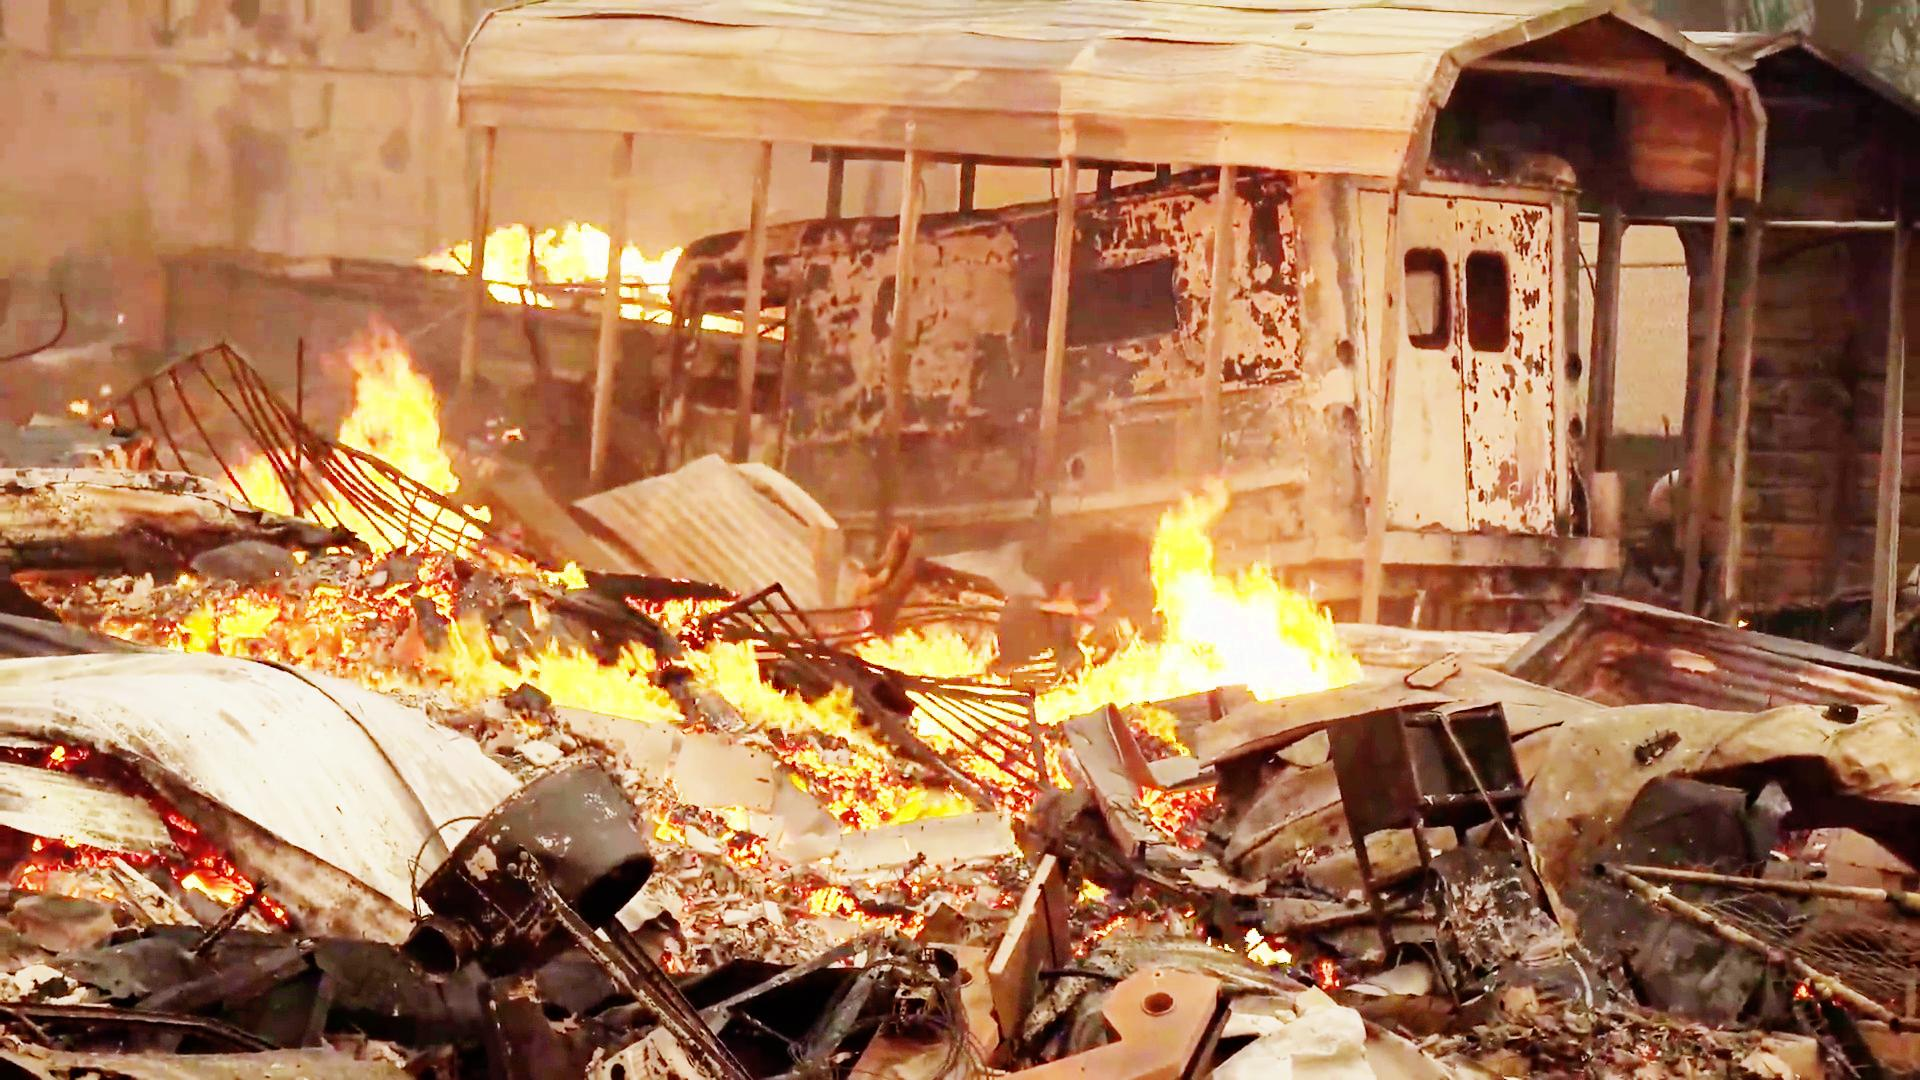fire: (1073, 476, 1385, 696), (521, 591, 993, 712), (286, 323, 487, 545), (447, 181, 700, 297)
